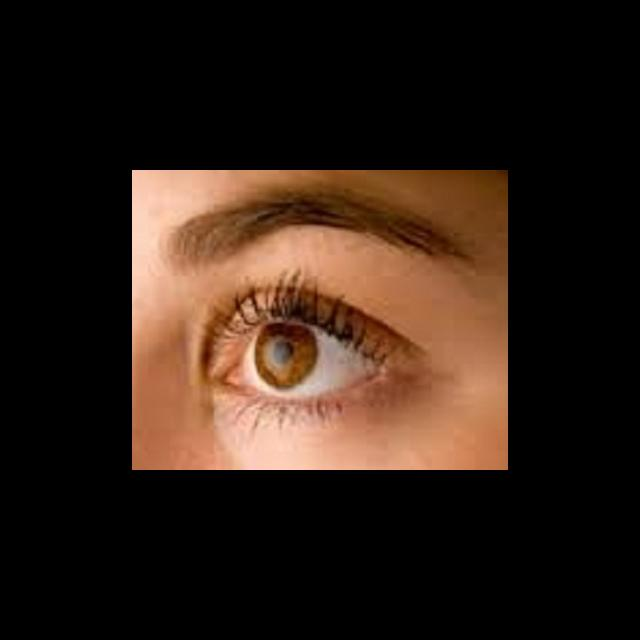eye: (240, 320, 377, 397)
iris: (256, 320, 317, 391)
